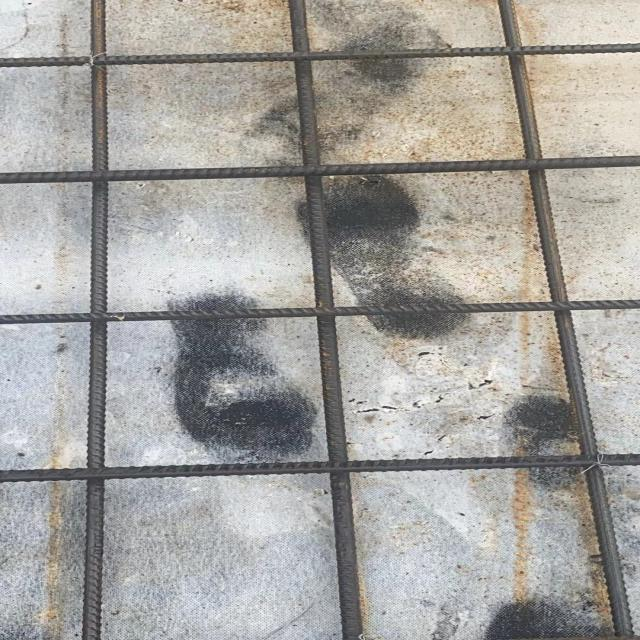ribbed bar: (496, 0, 635, 639), (289, 0, 368, 639), (0, 154, 639, 185), (0, 453, 639, 482), (0, 297, 639, 324), (81, 0, 107, 639), (0, 42, 639, 67)
